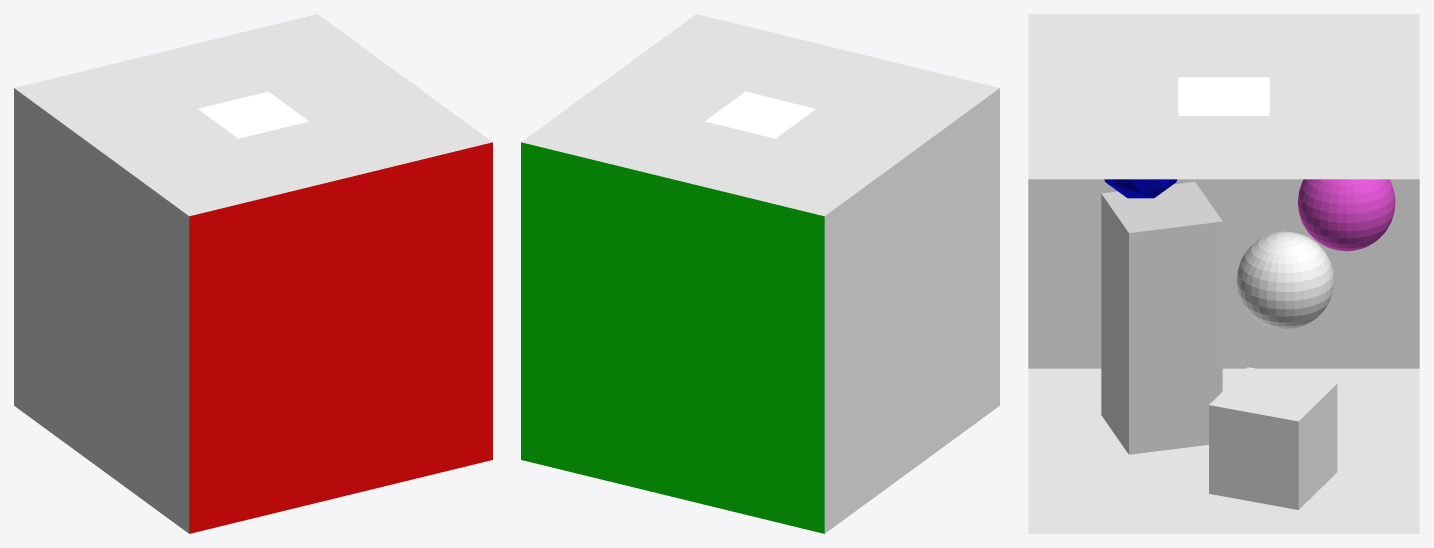
3 views of the same model, side by side, from view 1: azimuth 30°, elevation 25°; view 2: azimuth 150°, elevation 25°; view 3: azimuth 270°, elevation 25° (orthographic). The views are drawn at different scales.
Parts seen in each view (by area): view 1: LeftWall, BackWall, Ceiling, Light; view 2: RightWall, BackWall, Ceiling, Light; view 3: Ceiling, Floor, BackWall, Prism, Cube, WhiteBallMaterial, Sphere, Light, Icosphere.
Part boxes in pixels (x1,y1,x2,y2): LeftWall: [189, 142, 492, 533]; BackWall: [14, 88, 189, 533]; Ceiling: [14, 14, 492, 216]; Light: [198, 91, 308, 138]; RightWall: [521, 142, 824, 533]; BackWall: [824, 88, 999, 533]; Ceiling: [521, 14, 999, 216]; Light: [705, 91, 815, 138]; Ceiling: [1028, 14, 1419, 179]; Floor: [1028, 368, 1419, 533]; BackWall: [1028, 179, 1419, 368]; Prism: [1101, 182, 1222, 454]; Cube: [1209, 367, 1337, 509]; WhiteBallMaterial: [1236, 231, 1334, 329]; Sphere: [1297, 179, 1395, 251]; Light: [1178, 77, 1269, 115]; Icosphere: [1104, 179, 1177, 198].
Size of the model in its own units: 8 by 8 by 8.
